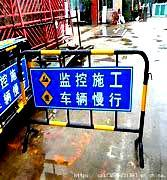sign: (30, 69, 132, 111)
